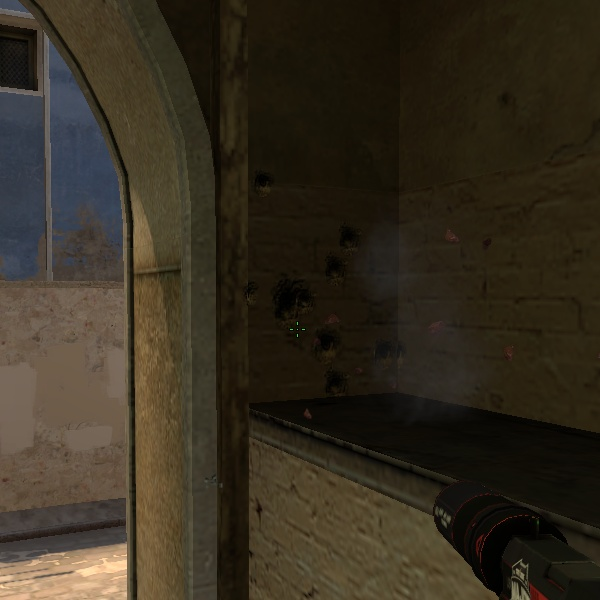t_body: (308, 310, 351, 396)
